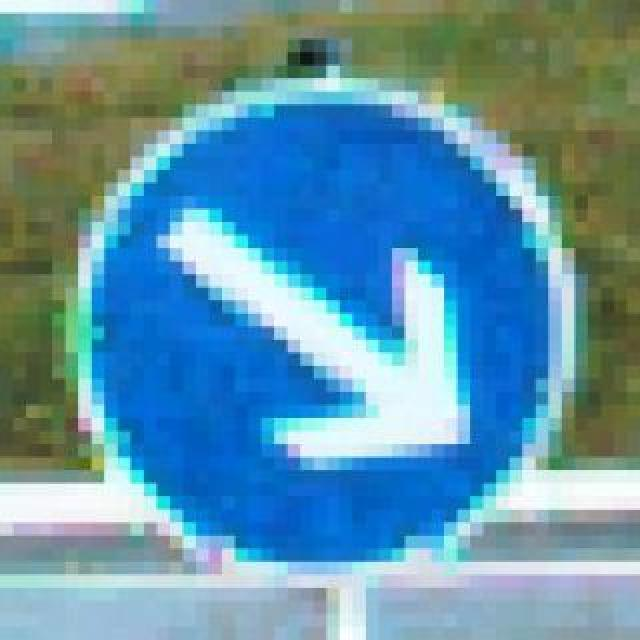keep right: (52, 52, 562, 576)
